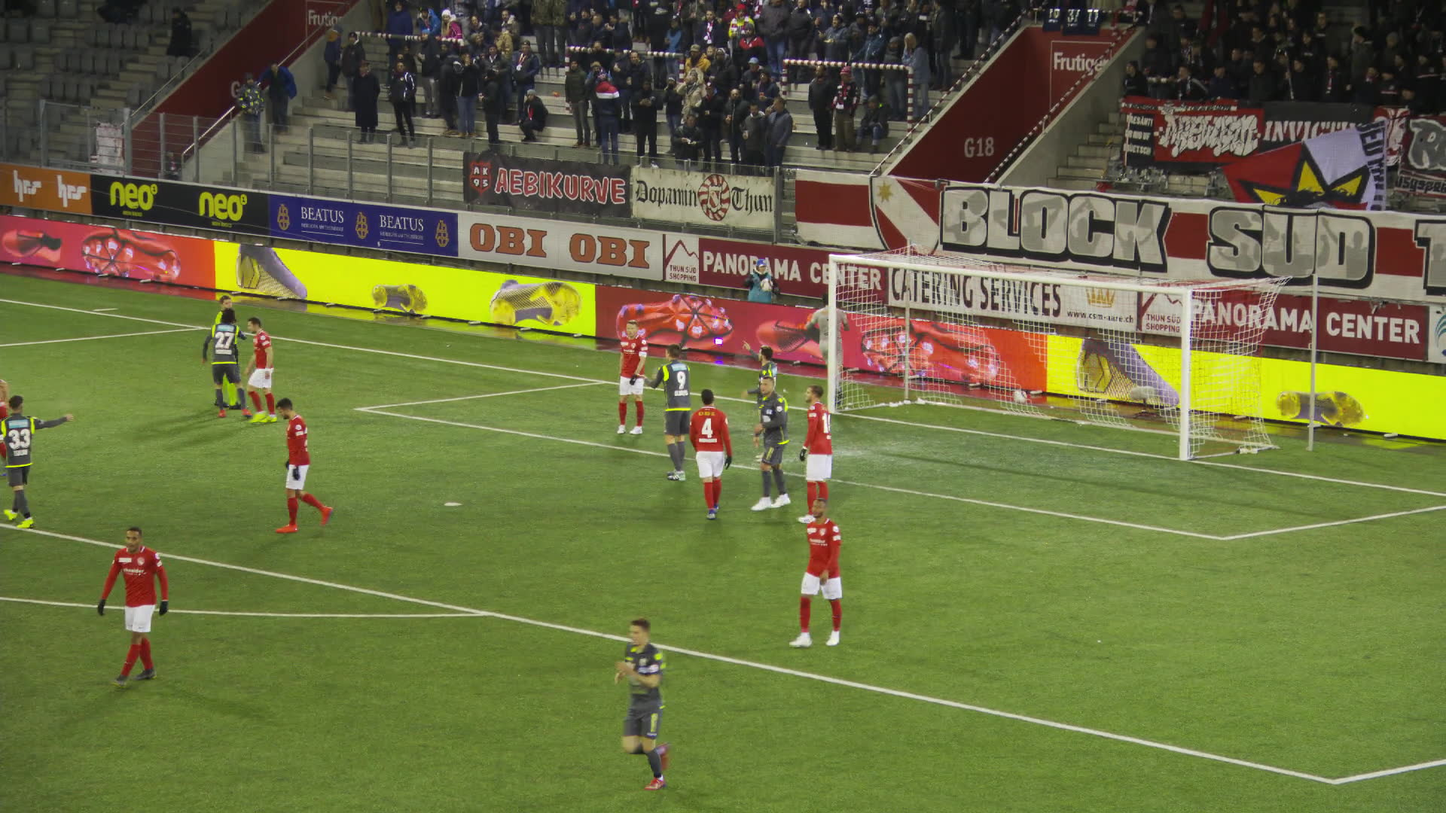ball: (760, 279, 772, 292), (1013, 390, 1027, 401)
player: (95, 520, 176, 689), (609, 614, 678, 790), (0, 394, 76, 530), (273, 397, 334, 534), (793, 495, 843, 647), (642, 343, 693, 482), (686, 385, 733, 521), (750, 375, 791, 510), (795, 383, 834, 524), (804, 291, 850, 403), (207, 309, 252, 418), (740, 340, 779, 460), (616, 319, 648, 434), (247, 316, 277, 423), (0, 377, 11, 477)
referee: (212, 294, 250, 411)
